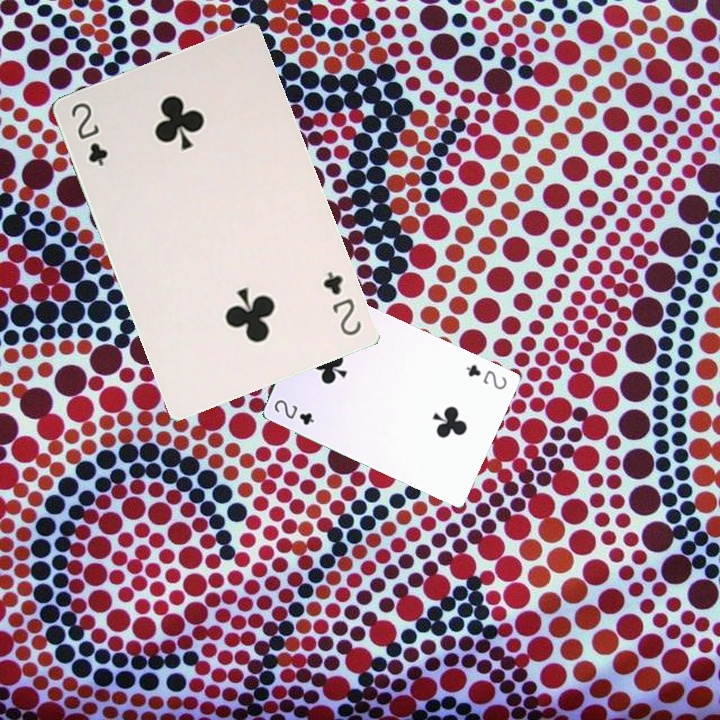2c: (319, 267, 364, 339), (67, 98, 111, 169), (462, 360, 509, 392), (270, 395, 317, 427)
